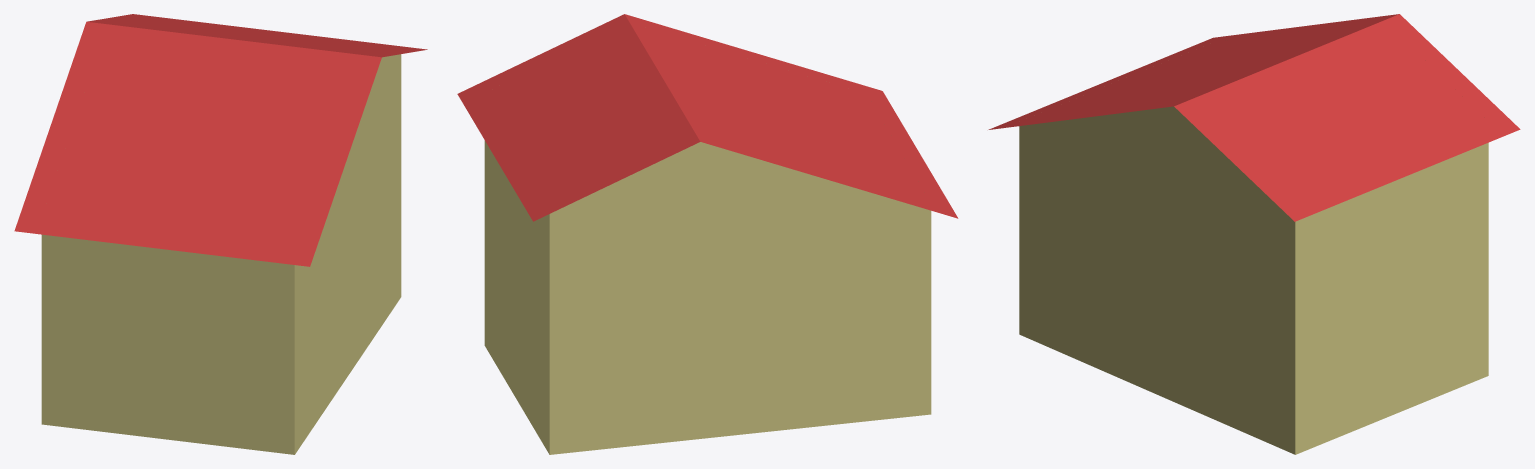
3 views of the same model, side by side, from view 1: azimuth 30°, elevation 25°; view 2: azimuth 150°, elevation 25°; view 3: azimuth 270°, elevation 25° (orthographic). The views are drawn at different scales.
Size of the model in its own units: 17.71 by 17.62 by 11.28.
